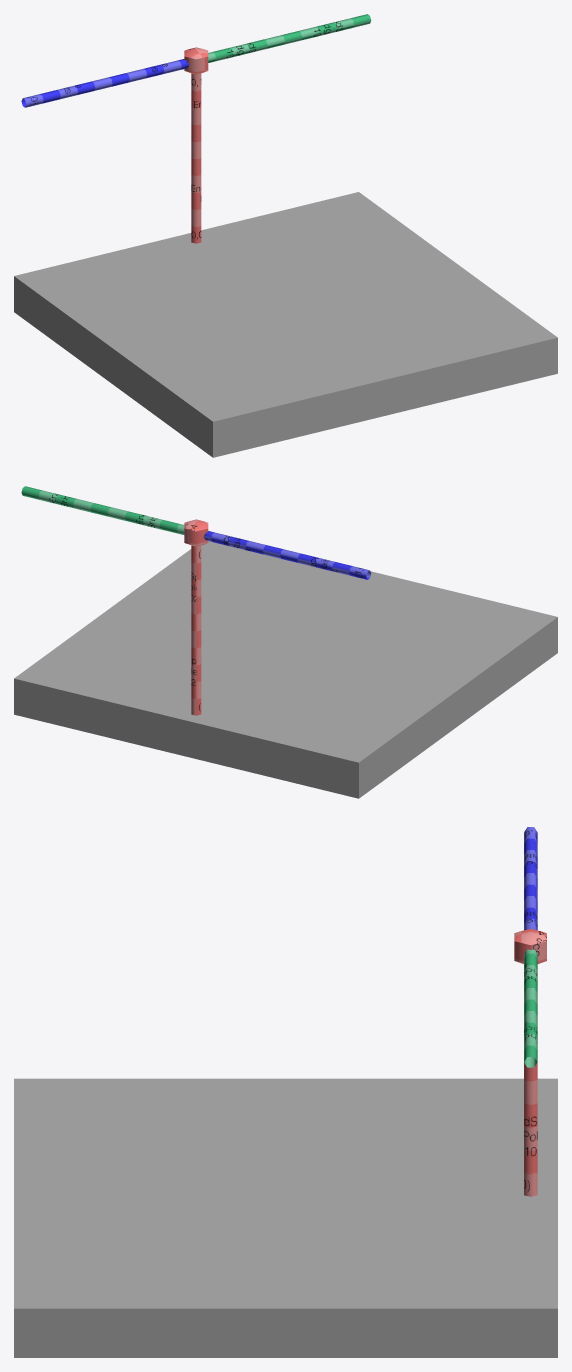
Rendered from bridge_intersection_T_center.fbx.
3 views of the same model, one above another, from view 1: azimuth 30°, elevation 25°; view 2: azimuth 150°, elevation 25°; view 3: azimuth 270°, elevation 25° (orthographic). The views are drawn at different scales.
Visible parts, largest first — view 1: bridge_intersection_T_center_floor, bridge_intersection_T_center, bridge_intersection_T_center_pole; view 2: bridge_intersection_T_center_floor, bridge_intersection_T_center, bridge_intersection_T_center_pole; view 3: bridge_intersection_T_center_floor, bridge_intersection_T_center, bridge_intersection_T_center_pole.
Boxes of the visible parts, left/top/right/bottom form: bridge_intersection_T_center_floor: left=14, top=192, right=557, bottom=457; bridge_intersection_T_center: left=21, top=14, right=371, bottom=107; bridge_intersection_T_center_pole: left=184, top=47, right=208, bottom=243; bridge_intersection_T_center_floor: left=14, top=541, right=557, bottom=798; bridge_intersection_T_center: left=21, top=486, right=371, bottom=579; bridge_intersection_T_center_pole: left=184, top=519, right=208, bottom=715; bridge_intersection_T_center_floor: left=14, top=1078, right=557, bottom=1357; bridge_intersection_T_center: left=524, top=827, right=537, bottom=1067; bridge_intersection_T_center_pole: left=514, top=928, right=546, bottom=1196.
Size of the model in its own units: 200 by 126 by 200.
